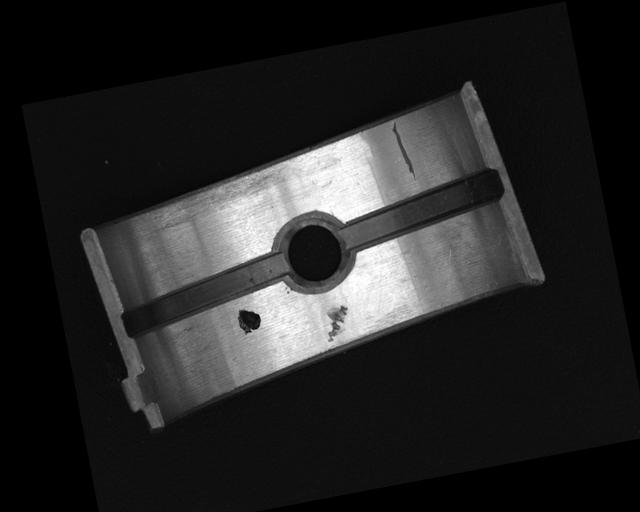blot: (235, 305, 263, 336)
bruise: (321, 304, 353, 343)
gap: (115, 250, 293, 338), (333, 167, 506, 252)
hole: (270, 208, 359, 296)
nick: (390, 118, 417, 184)
scratch: (139, 157, 303, 235)
